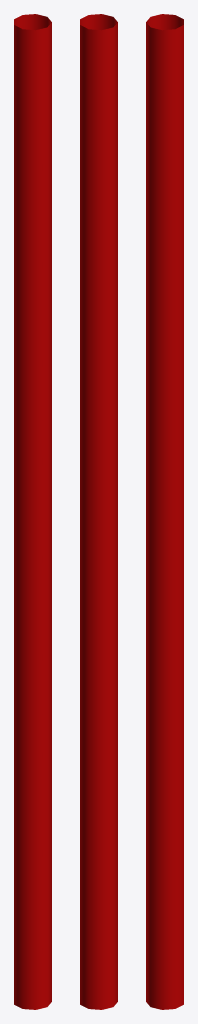
The model's file is Attic_Cable_01_LP_Splines_5.glb.
3 renders of one model, left to right at view 1: azimuth 30°, elevation 25°; view 2: azimuth 150°, elevation 25°; view 3: azimuth 330°, elevation 25°, orthographic.
Parts seen in each view (by area): view 1: Attic_Cable_01_LP_Splines_5; view 2: Attic_Cable_01_LP_Splines_5; view 3: Attic_Cable_01_LP_Splines_5.
Part boxes in pixels (x1,y1,x2,y2): Attic_Cable_01_LP_Splines_5: (14,14,51,1009); Attic_Cable_01_LP_Splines_5: (80,14,117,1009); Attic_Cable_01_LP_Splines_5: (146,14,183,1009).
Size of the model in its own units: 0.0202 by 0.5687 by 0.0199.
